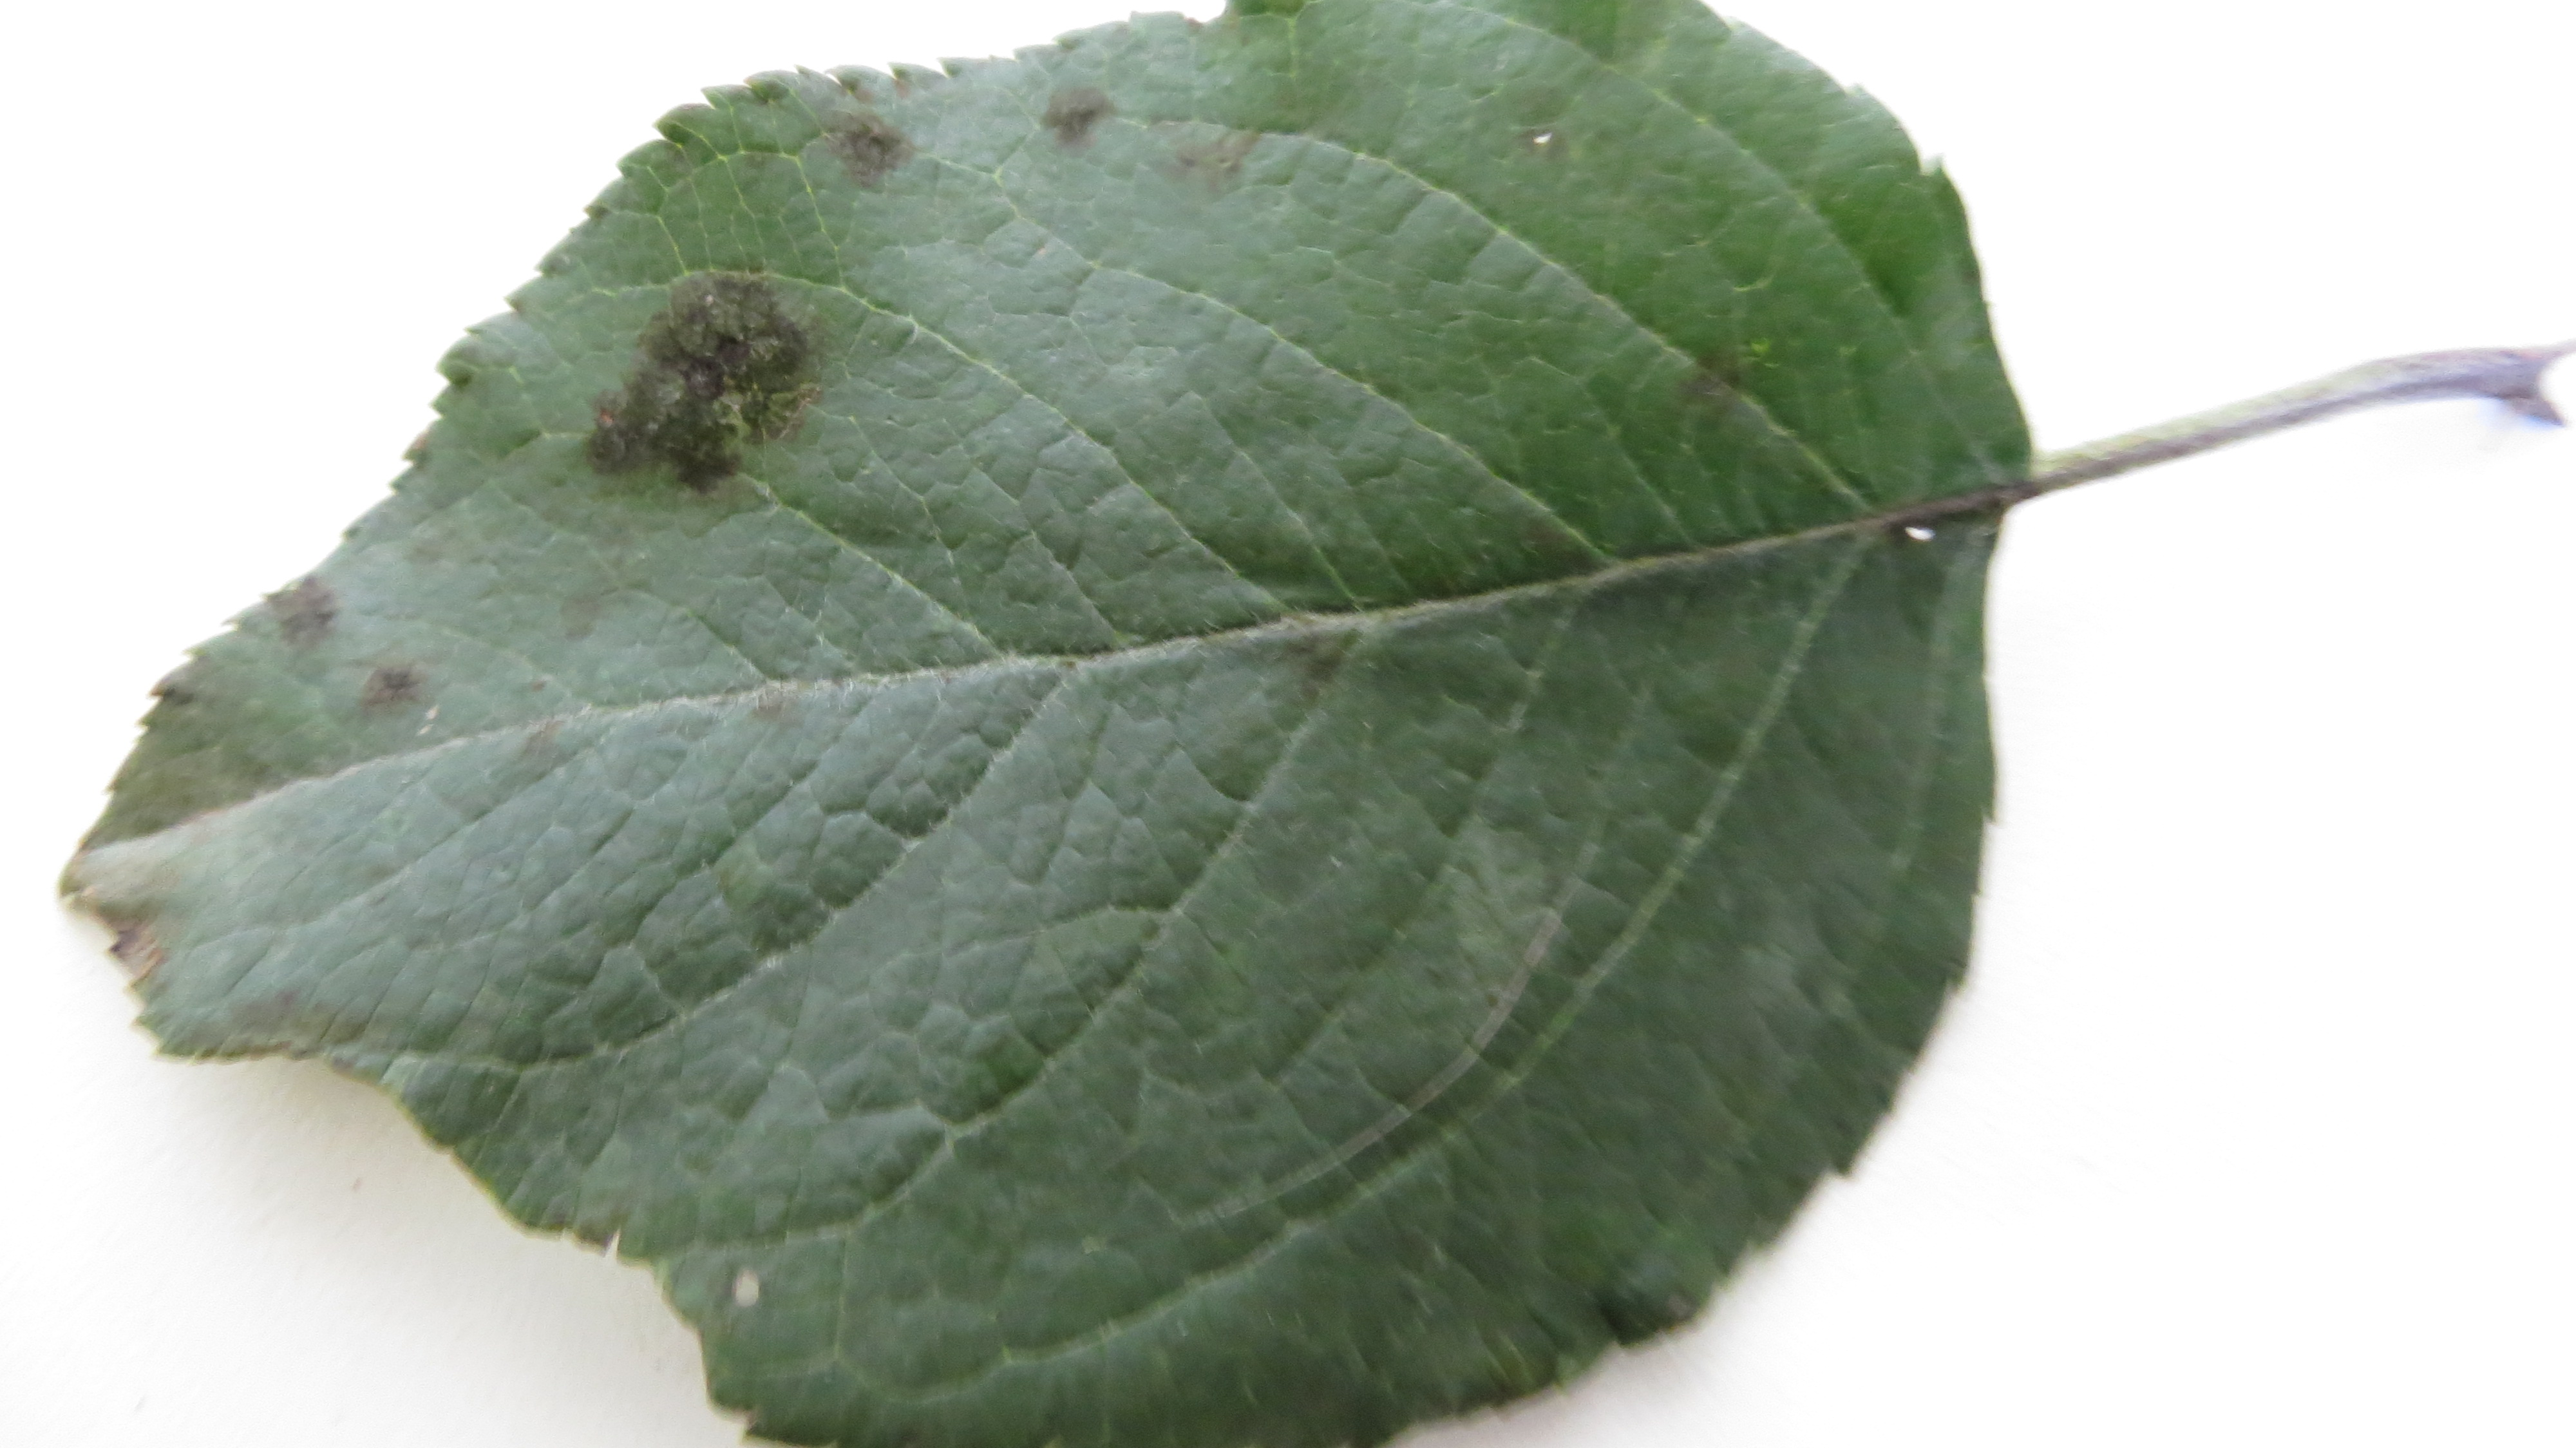sarna: (582, 257, 830, 517), (817, 90, 922, 202), (1159, 117, 1279, 207), (1670, 326, 1753, 448), (1021, 64, 1116, 158), (251, 554, 336, 657), (1488, 104, 1582, 191), (340, 648, 430, 712)
